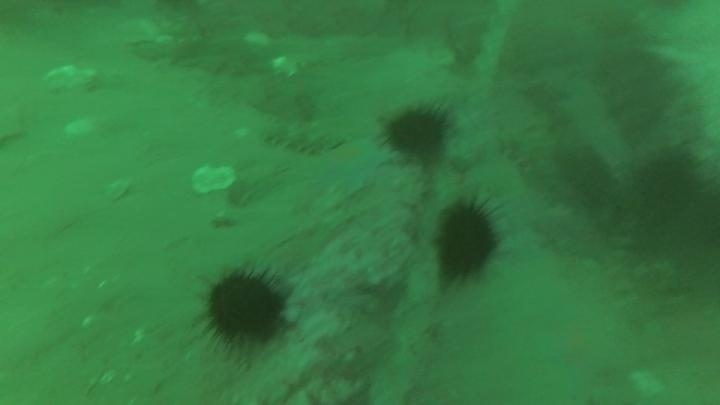echinus: (201, 266, 290, 348), (433, 198, 503, 284), (631, 150, 702, 224), (381, 101, 453, 162)
holothurian: (494, 128, 564, 190), (260, 119, 331, 158)
starfish: (315, 134, 394, 197)
